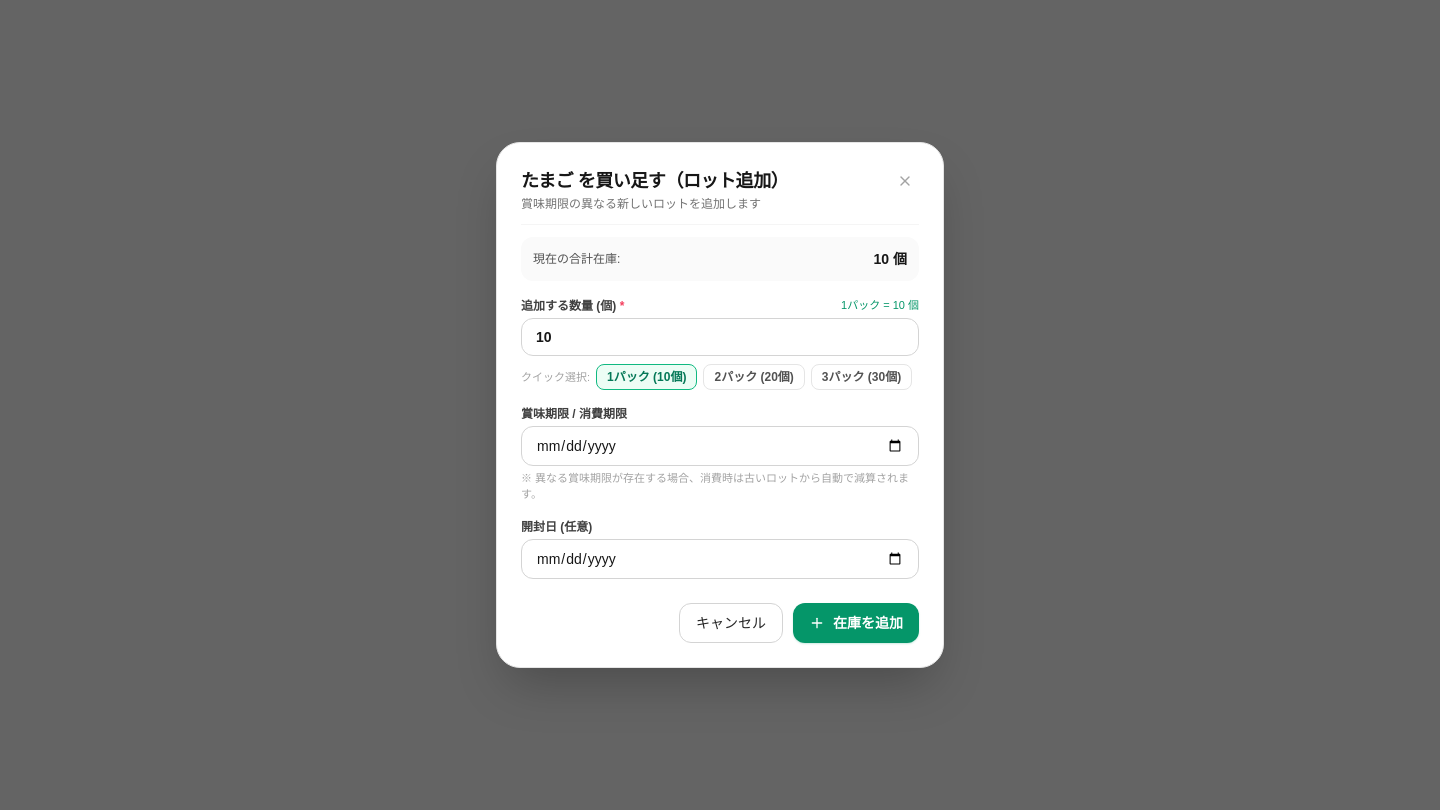
BatchAddDialog (買い足しダイアログ) › 卵のように package_quantity: 10 の場合、初期数量に 10 がセットされ、クイック選択ボタンが表示されること
expect the heading "たまご を買い足す（ロット追加）" is shown: met, box [521,167,788,195]
expect the text "1パック = 10 個" is shown: met, box [841,297,919,314]
# 2パックボタンをクリック
Step 1. Click the button "2パック (20個)" → (754, 377), box [704,364,805,390]
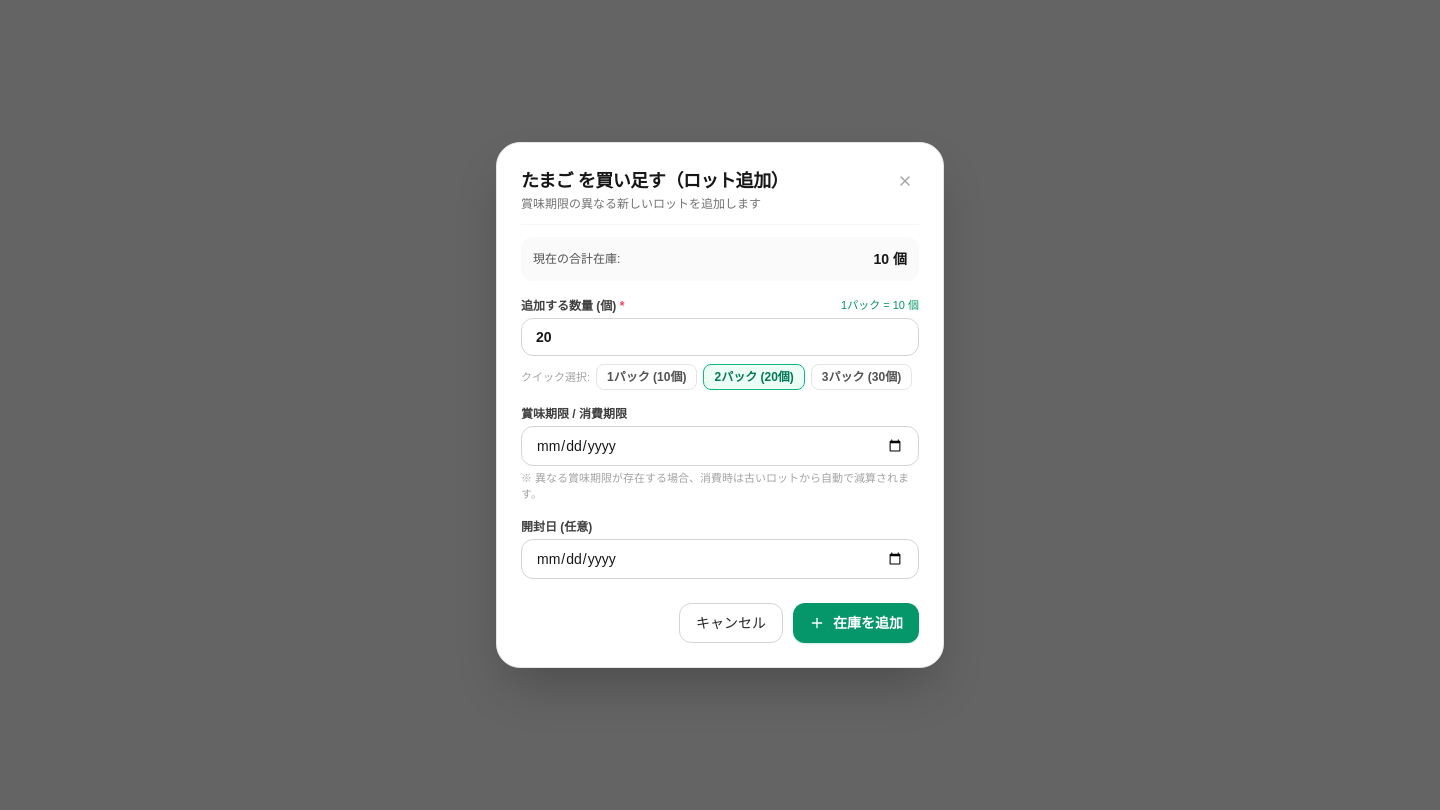
expect the number field holds "20": met, box [521,318,919,356]
